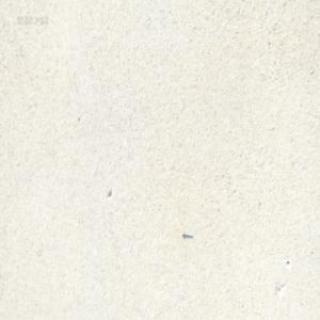Nailtrack_idkeyframe: (181, 230, 193, 238)
